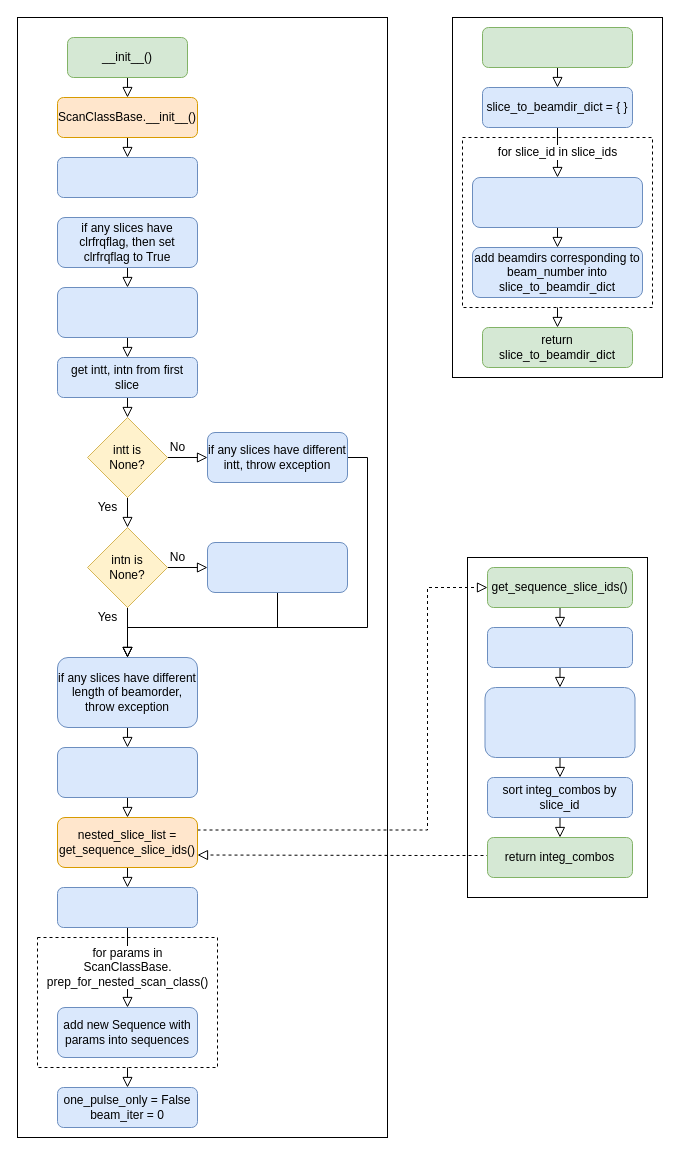
The diagram is 680 pixels wide and 1155 high, and some of its shapes have lost their labels. Each missing label, with the centre of its shape:
"add all clrfrqranges in slice_dict to clrfrqrange list" goes at [127,312].
"append items from interface to integ_combos if the items are PULSE interfaced" goes at [559,722].
"beam_number = slice_to_beamorder[slice_id][beamiter]" goes at [557,202].
"clrfrqflag = False clrfrqrange = [ ]" goes at [127,177].
"if any slices have different intn, throw exception" goes at [277,567].
"integ_combos = [ ]" goes at [559,647].
"num_beams_in_scan = length of beamorder" goes at [127,772].
"sequences = [ ]" goes at [127,907].
"set_beamdirdict(beamiter)" goes at [557,47].
